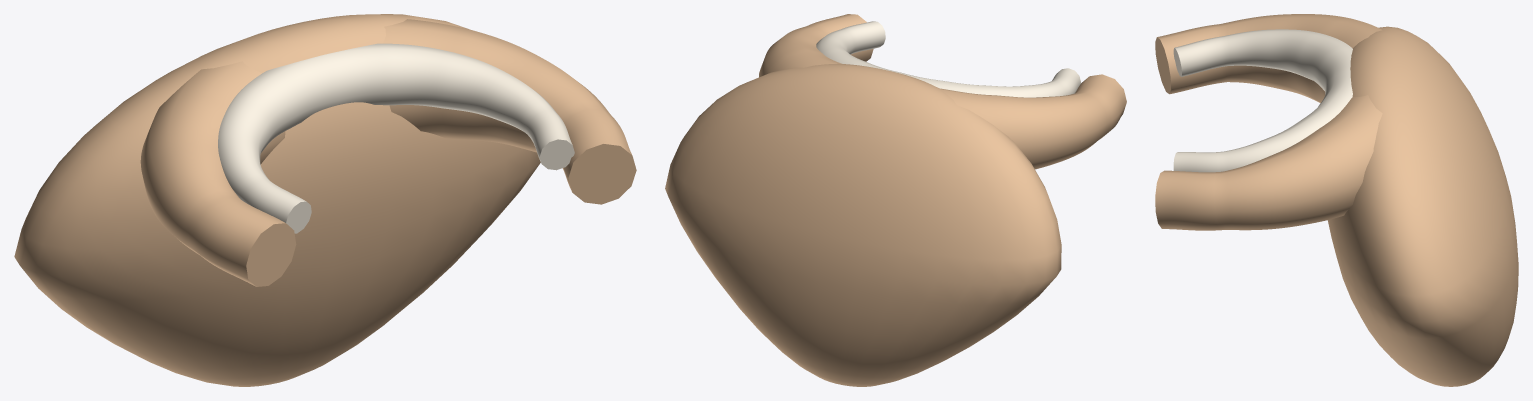
The model's file is hood_daily.fbx.
The picture shows the model from 3 angles, left to right: view 1: azimuth 30°, elevation 25°; view 2: azimuth 150°, elevation 25°; view 3: azimuth 270°, elevation 25°; orthographic projection. The views are drawn at different scales.
Parts seen in each view (by area): view 1: Hood_Pouch, Hood_Rim, Hood_Lining; view 2: Hood_Pouch, Hood_Rim, Hood_Lining; view 3: Hood_Pouch, Hood_Rim, Hood_Lining.
Part boxes in pixels (<box>): Hood_Pouch: <box>14,14,540,386</box>; Hood_Rim: <box>140,19,636,286</box>; Hood_Lining: <box>218,43,574,233</box>; Hood_Pouch: <box>665,63,1061,386</box>; Hood_Rim: <box>759,14,1126,169</box>; Hood_Lining: <box>816,21,1080,97</box>; Hood_Pouch: <box>1327,26,1518,386</box>; Hood_Rim: <box>1155,14,1382,230</box>; Hood_Lining: <box>1173,29,1352,172</box>.
Bounding box in the file's own units: 0.3 × 0.21 × 0.2182.
